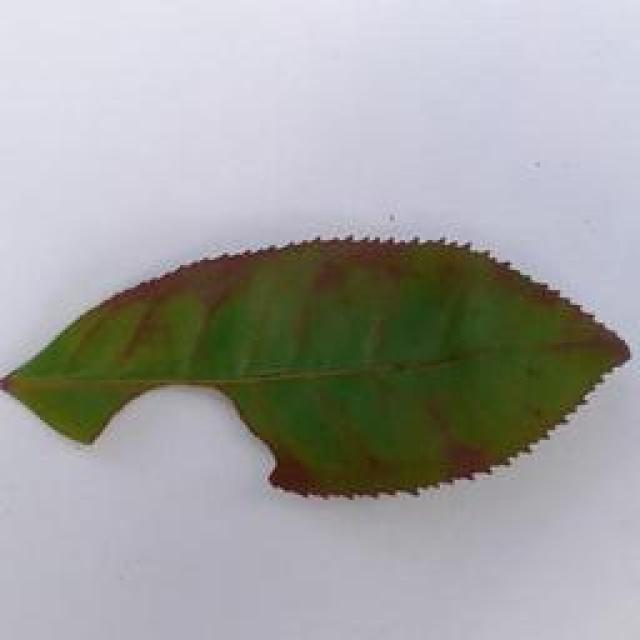Red Leaf Spot: (0, 214, 633, 500)
